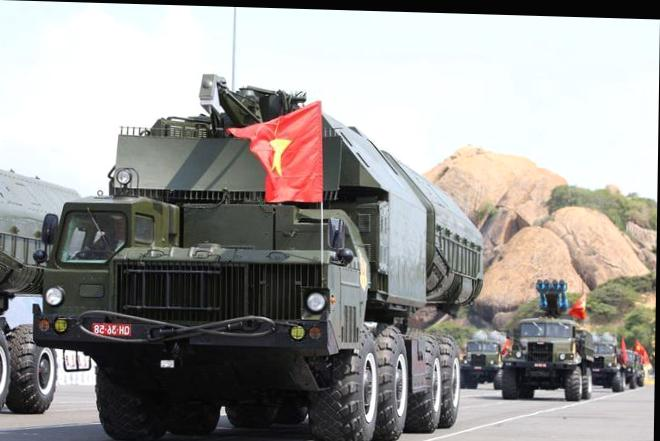License_Plate: (90, 320, 135, 339)
